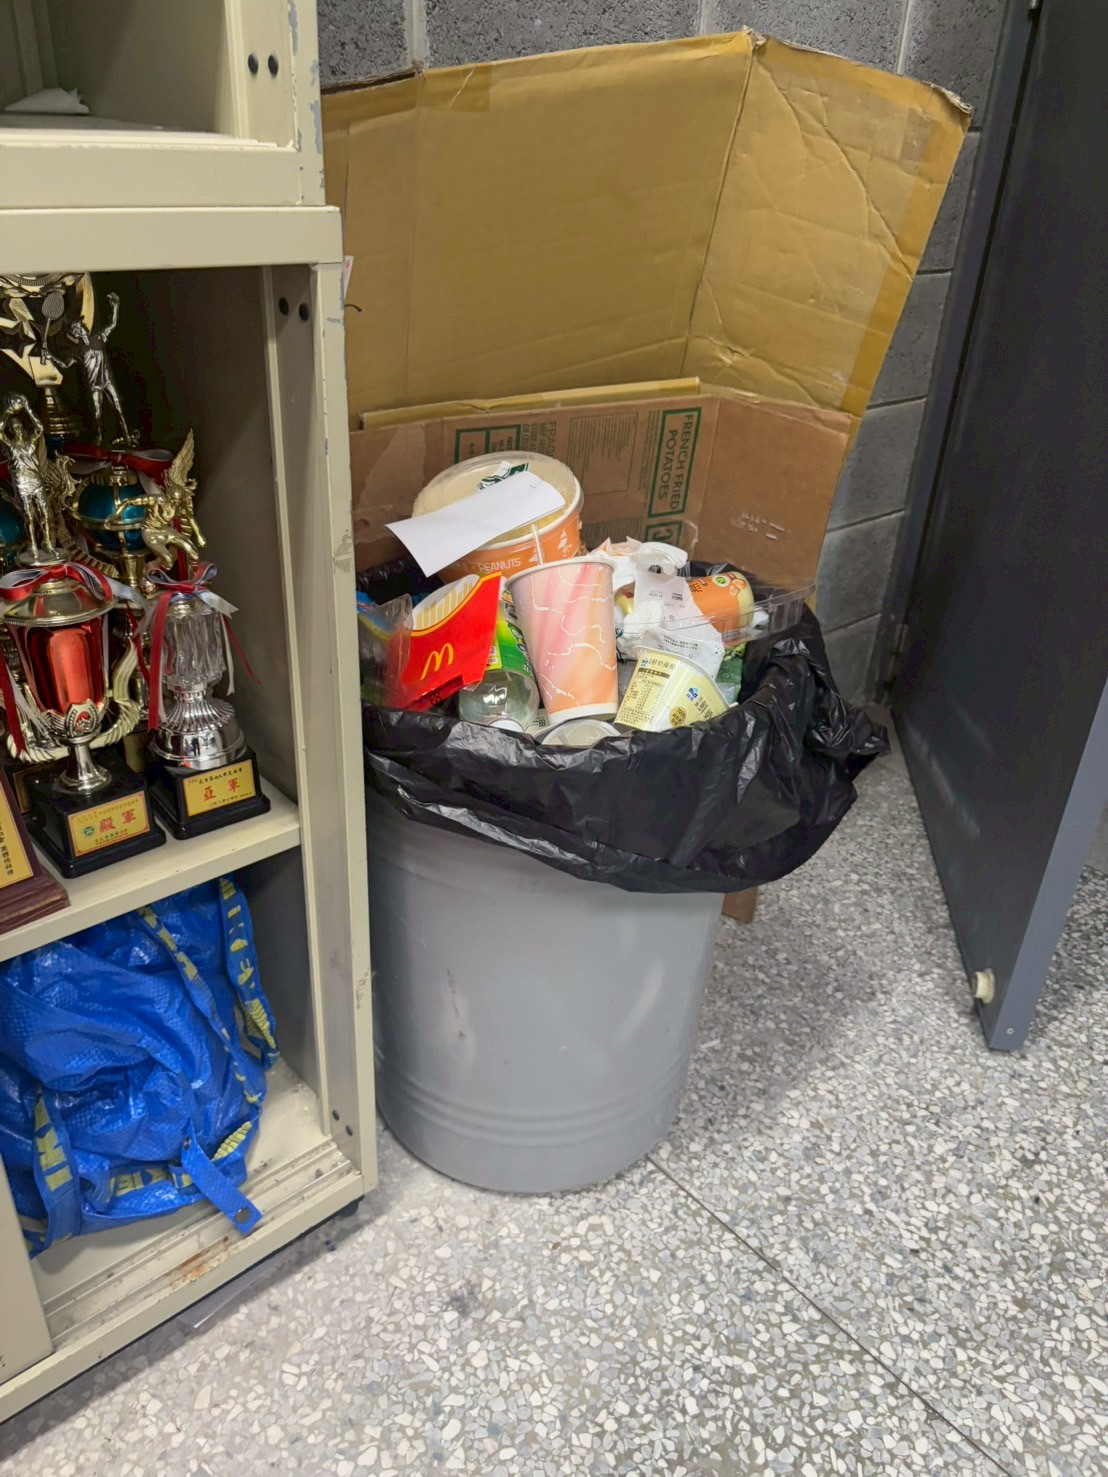overflow_bin: (321, 441, 894, 1217)
